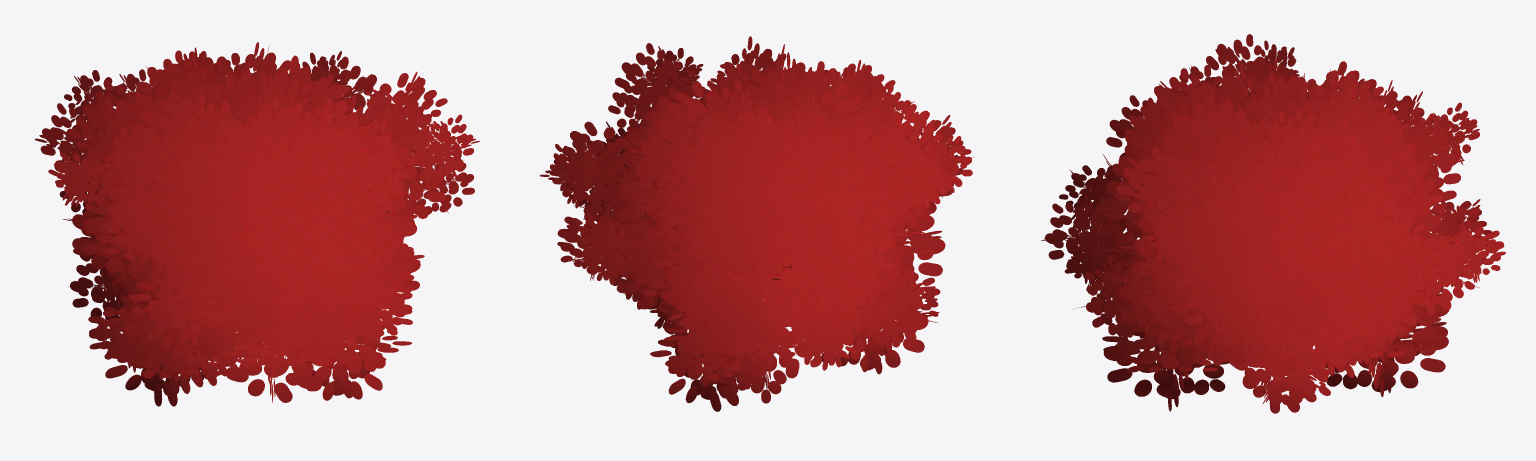
Rendered from Bush_Common.low.gltf.
3 views of the same model, side by side, from view 1: azimuth 30°, elevation 25°; view 2: azimuth 150°, elevation 25°; view 3: azimuth 270°, elevation 25° (orthographic). The views are drawn at different scales.
Visible parts, largest first — view 1: Bush_Common; view 2: Bush_Common; view 3: Bush_Common.
Boxes of the visible parts, x1,y1,x2,y2 form: Bush_Common: [34, 42, 479, 406]; Bush_Common: [539, 36, 974, 411]; Bush_Common: [1041, 34, 1505, 413].
Bounding box in the file's own units: 1.91 × 1.58 × 1.97.
1 material, 1 textured.
